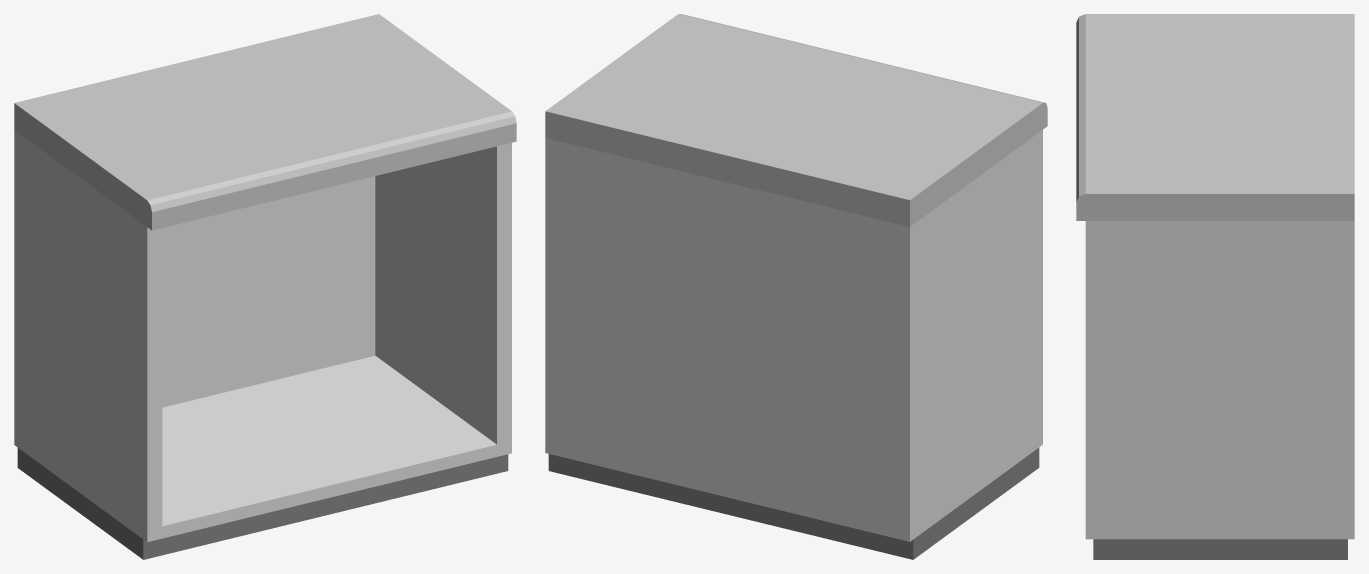
The model's file is counter_1.glb.
3 views of the same model, side by side, from view 1: azimuth 30°, elevation 25°; view 2: azimuth 150°, elevation 25°; view 3: azimuth 270°, elevation 25° (orthographic).
Visible parts, largest first — view 1: Counter (Connected); view 2: Counter (Connected); view 3: Counter (Connected).
Part boxes in pixels (x1=…): Counter (Connected): x1=14, y1=14, x2=516, y2=559; Counter (Connected): x1=545, y1=14, x2=1047, y2=559; Counter (Connected): x1=1076, y1=14, x2=1354, y2=559.
Size of the model in its own units: 1 by 0.949 by 0.6537.
Materials: 1 (1 with a texture image).
